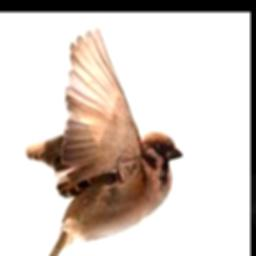Sparrow: (26, 25, 182, 256)
